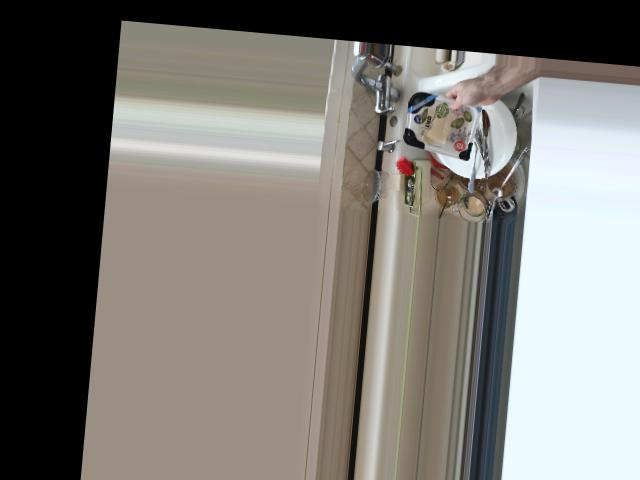cheese: (397, 71, 495, 160)
